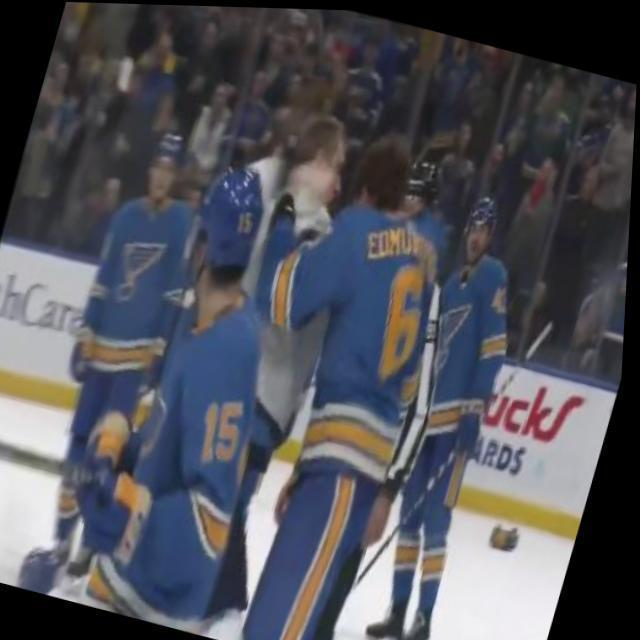fight: (180, 92, 485, 496)
